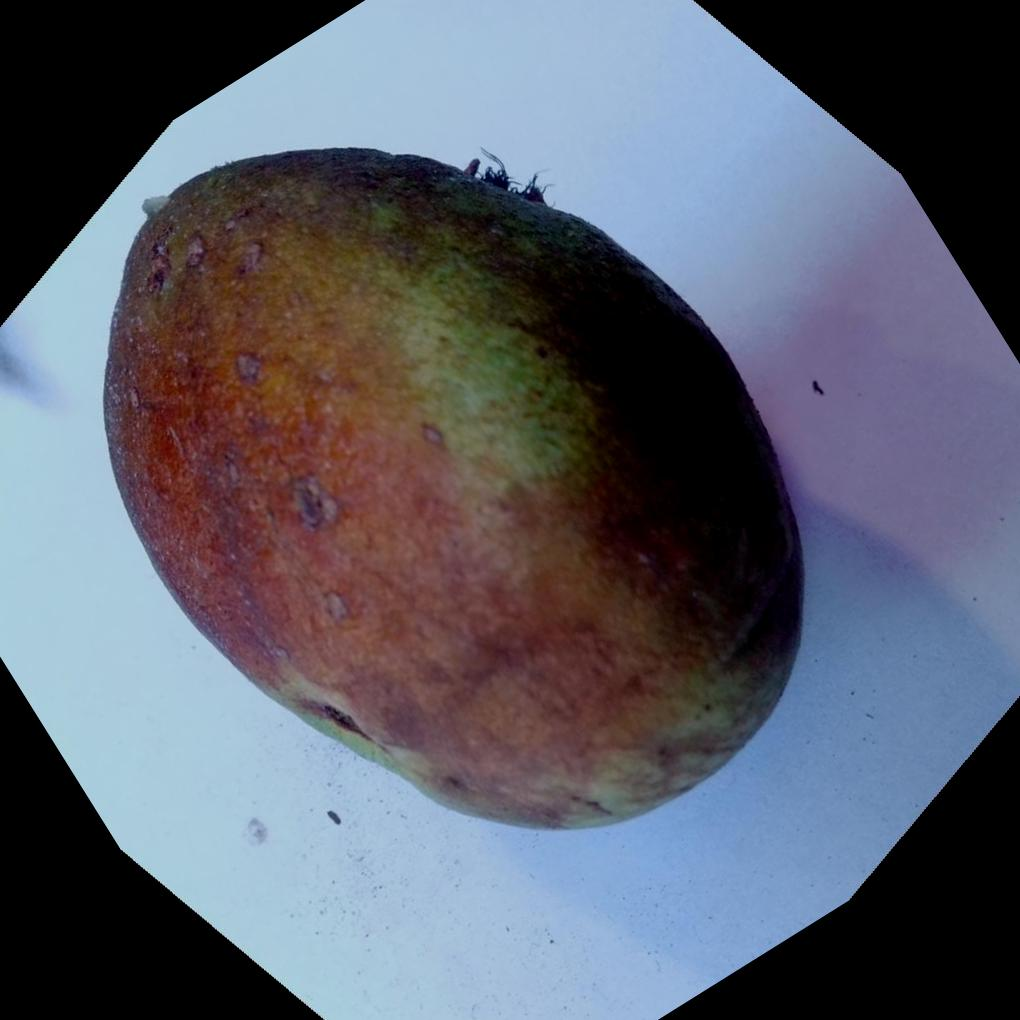FreshOrange: (102, 147, 807, 835)
